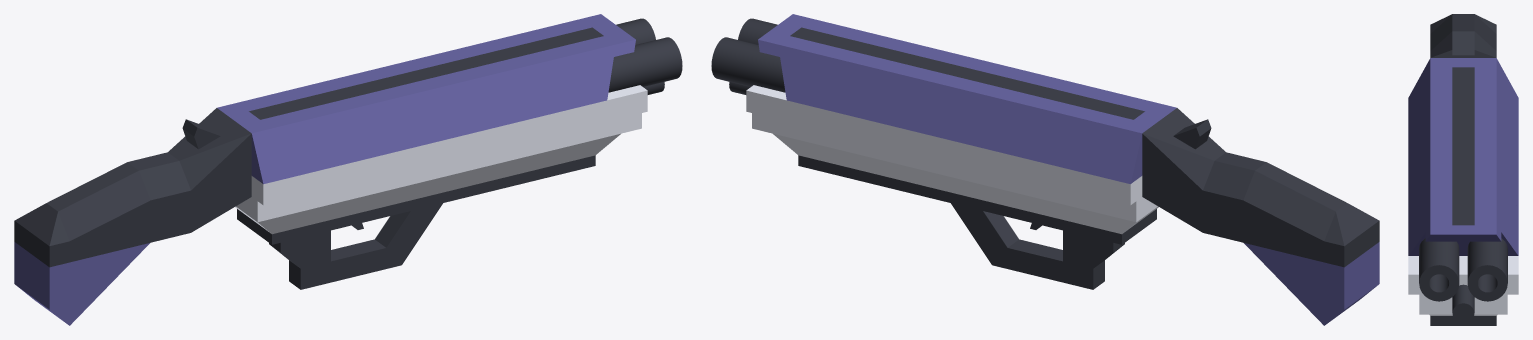
File: Shotgun1.fbx
The picture shows the model from 3 angles, left to right: view 1: azimuth 30°, elevation 25°; view 2: azimuth 150°, elevation 25°; view 3: azimuth 270°, elevation 25°; orthographic projection. The views are drawn at different scales.
Parts seen in each view (by area): view 1: largeBlaster_handleBolt, stock_solid, largeBlaster_barrelDouble, largeBlaster_back; view 2: largeBlaster_handleBolt, stock_solid, largeBlaster_barrelDouble, largeBlaster_back; view 3: largeBlaster_barrelDouble, largeBlaster_handleBolt, stock_solid, largeBlaster_back.
Boxes of the visible parts, bbox=[...] form: largeBlaster_handleBolt: bbox=[257, 48, 506, 289]; stock_solid: bbox=[14, 108, 251, 325]; largeBlaster_barrelDouble: bbox=[460, 14, 682, 190]; largeBlaster_back: bbox=[217, 98, 303, 244]; largeBlaster_handleBolt: bbox=[887, 48, 1136, 289]; stock_solid: bbox=[1142, 108, 1379, 325]; largeBlaster_barrelDouble: bbox=[711, 14, 933, 190]; largeBlaster_back: bbox=[1090, 98, 1176, 244]; largeBlaster_barrelDouble: bbox=[1408, 169, 1518, 325]; largeBlaster_handleBolt: bbox=[1408, 76, 1518, 208]; stock_solid: bbox=[1430, 14, 1496, 57]; largeBlaster_back: bbox=[1408, 58, 1518, 115].
Bounding box in the file's own units: 15.5 × 4.43 × 2.5.
